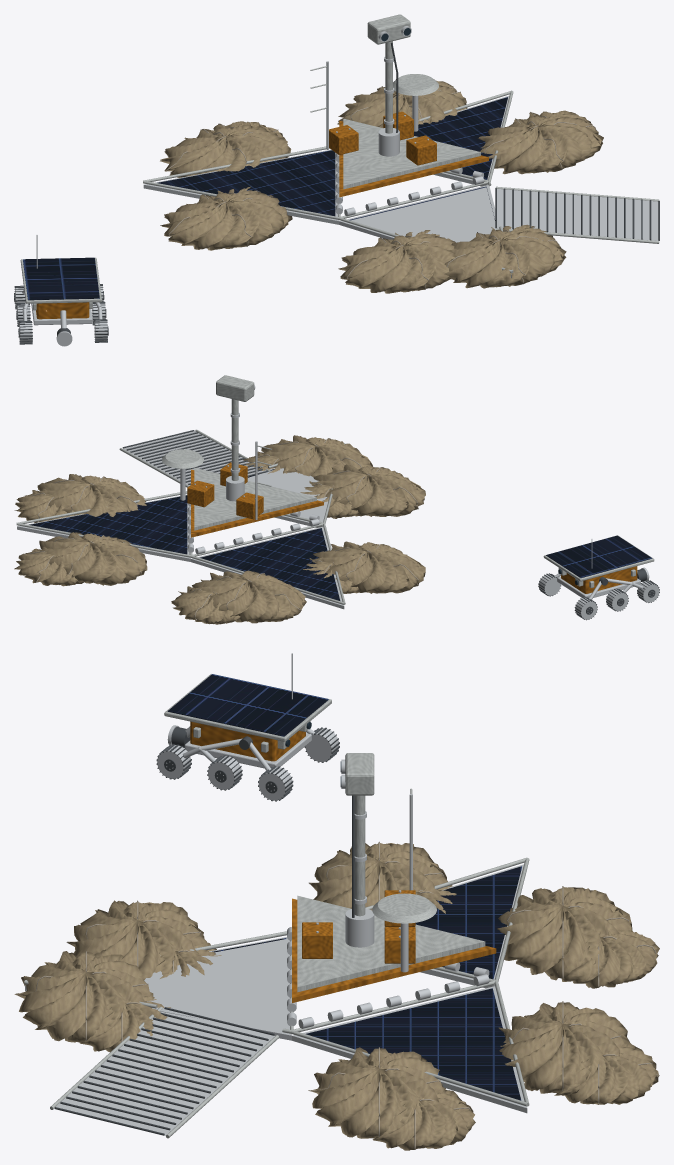
Rendered from pathfinder.glb.
The picture shows the model from 3 angles, top to bottom: view 1: azimuth 30°, elevation 25°; view 2: azimuth 150°, elevation 25°; view 3: azimuth 270°, elevation 25°; orthographic projection. The views are drawn at different scales.
Visible parts, largest first — view 1: pathfinder-finish-00, pathfinder-finish-04, pathfinder-finish-02, pathfinder-finish-07, pathfinder-finish-03, sojourner-finish-06, pathfinder-finish-06, sojourner-finish-00, pathfinder-finish-01, sojourner-finish-01, sojourner-finish-04, sojourner-finish-03; view 2: pathfinder-finish-00, pathfinder-finish-07, pathfinder-finish-02, pathfinder-finish-04, pathfinder-finish-03, sojourner-finish-06, sojourner-finish-00, pathfinder-finish-06, pathfinder-finish-01, sojourner-finish-01, sojourner-finish-04, sojourner-finish-03; view 3: pathfinder-finish-00, pathfinder-finish-04, pathfinder-finish-07, pathfinder-finish-02, pathfinder-finish-06, sojourner-finish-06, pathfinder-finish-03, sojourner-finish-00, pathfinder-finish-01, sojourner-finish-01, sojourner-finish-04, sojourner-finish-03.
Boxes of the visible parts, left/top/right/bottom form: pathfinder-finish-00: left=160, top=79, right=603, bottom=293; pathfinder-finish-04: left=143, top=26, right=658, bottom=277; pathfinder-finish-02: left=143, top=14, right=659, bottom=273; pathfinder-finish-07: left=157, top=97, right=507, bottom=220; pathfinder-finish-03: left=329, top=111, right=488, bottom=197; sojourner-finish-06: left=23, top=257, right=99, bottom=300; pathfinder-finish-06: left=390, top=42, right=659, bottom=240; sojourner-finish-00: left=14, top=235, right=107, bottom=346; pathfinder-finish-01: left=165, top=79, right=596, bottom=289; sojourner-finish-01: left=14, top=284, right=108, bottom=344; sojourner-finish-04: left=36, top=302, right=89, bottom=319; sojourner-finish-03: left=20, top=257, right=101, bottom=310; pathfinder-finish-00: left=14, top=435, right=425, bottom=624; pathfinder-finish-07: left=29, top=469, right=340, bottom=600; pathfinder-finish-02: left=16, top=375, right=345, bottom=604; pathfinder-finish-04: left=17, top=385, right=344, bottom=609; pathfinder-finish-03: left=187, top=462, right=323, bottom=537; sojourner-finish-06: left=546, top=535, right=652, bottom=577; sojourner-finish-00: left=538, top=539, right=659, bottom=619; pathfinder-finish-06: left=122, top=430, right=267, bottom=484; pathfinder-finish-01: left=21, top=438, right=418, bottom=621; sojourner-finish-01: left=538, top=569, right=659, bottom=620; sojourner-finish-04: left=561, top=566, right=637, bottom=593; sojourner-finish-03: left=543, top=535, right=654, bottom=588; pathfinder-finish-00: left=14, top=843, right=659, bottom=1150; pathfinder-finish-04: left=25, top=759, right=527, bottom=1136; pathfinder-finish-07: left=212, top=866, right=521, bottom=1100; pathfinder-finish-02: left=24, top=753, right=529, bottom=1138; pathfinder-finish-06: left=54, top=795, right=354, bottom=1135; sojourner-finish-06: left=167, top=674, right=328, bottom=736; pathfinder-finish-03: left=292, top=890, right=496, bottom=1002; sojourner-finish-00: left=157, top=653, right=339, bottom=800; pathfinder-finish-01: left=16, top=841, right=659, bottom=1149; sojourner-finish-01: left=156, top=727, right=339, bottom=801; sojourner-finish-04: left=190, top=721, right=305, bottom=761; sojourner-finish-03: left=164, top=674, right=331, bottom=752.
Size of the model in its own units: 4.56 by 1.23 by 2.89.
9 materials, 4 textured.
